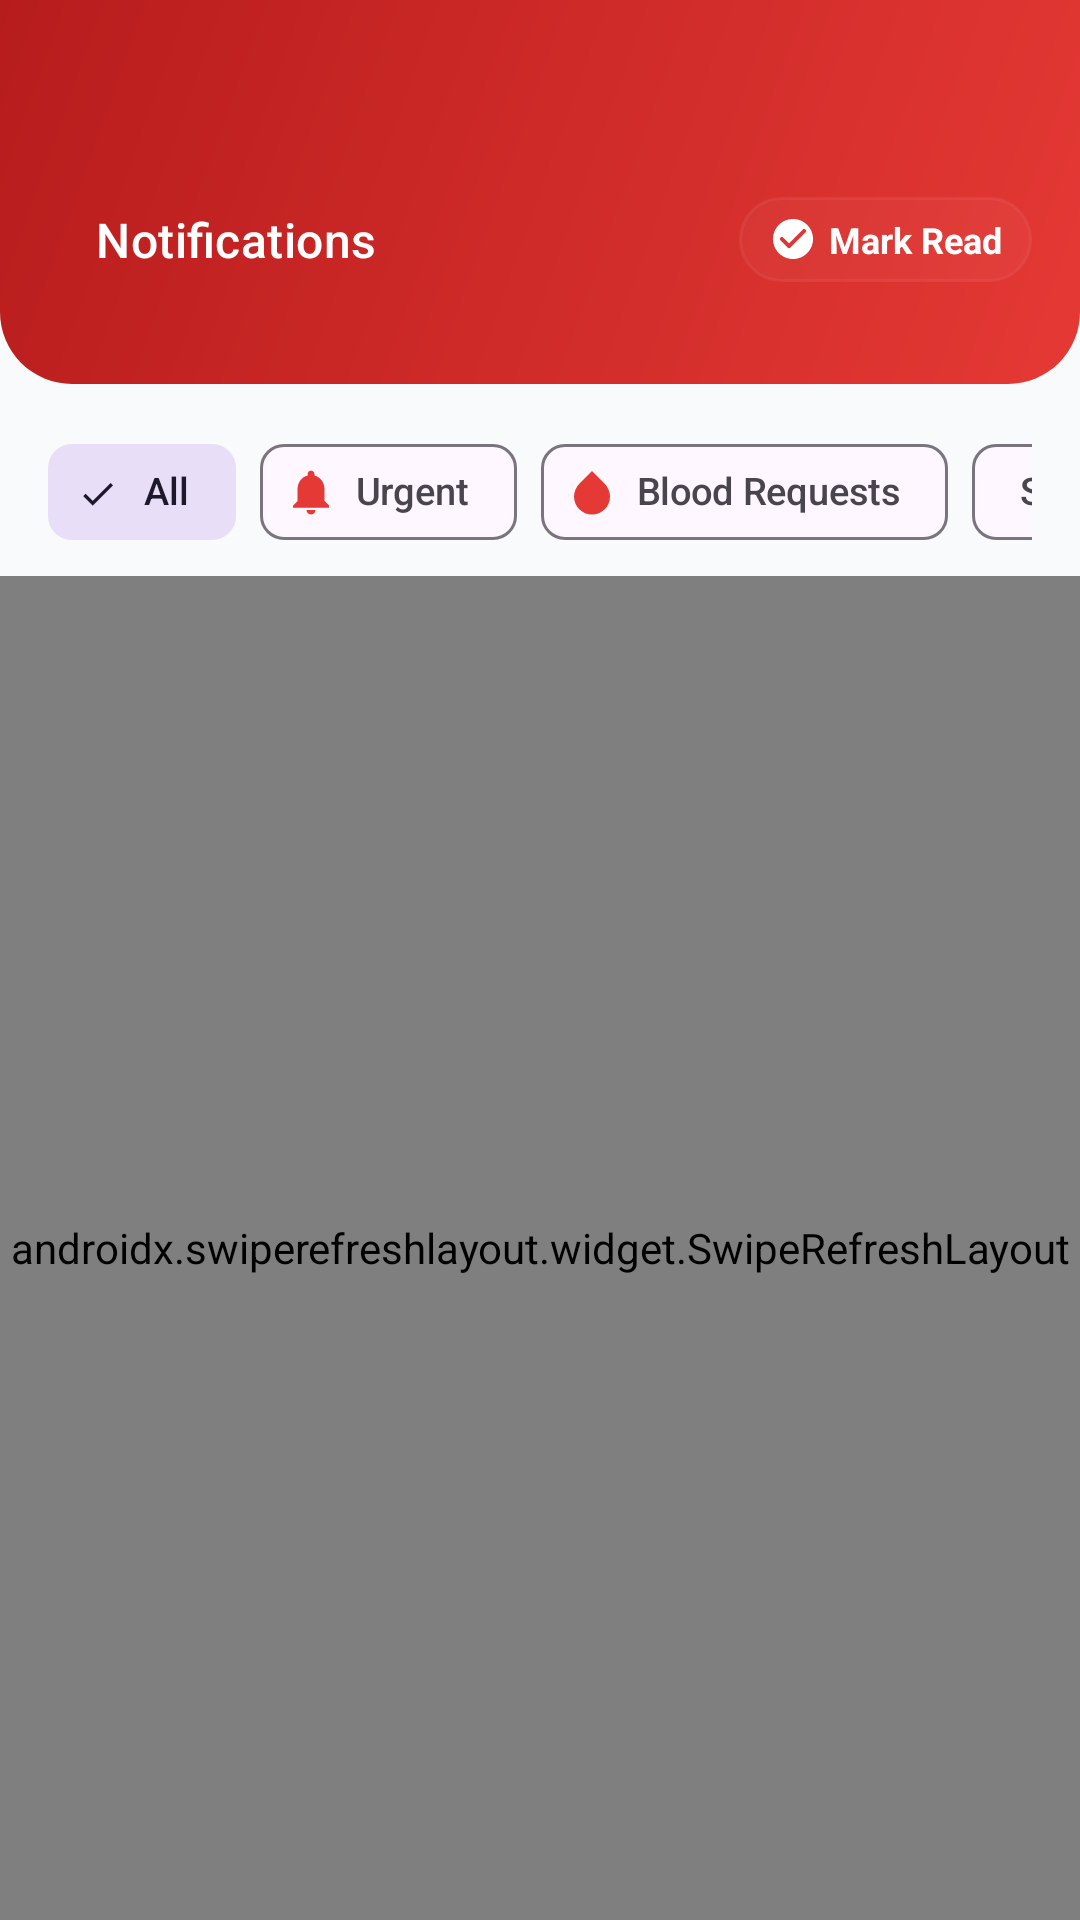

Icon bounding boxes for this 1080 × 1920 phone screenshot, format box=[x1, y1, x2, y2]:
check circle: box=[773, 219, 813, 259]
